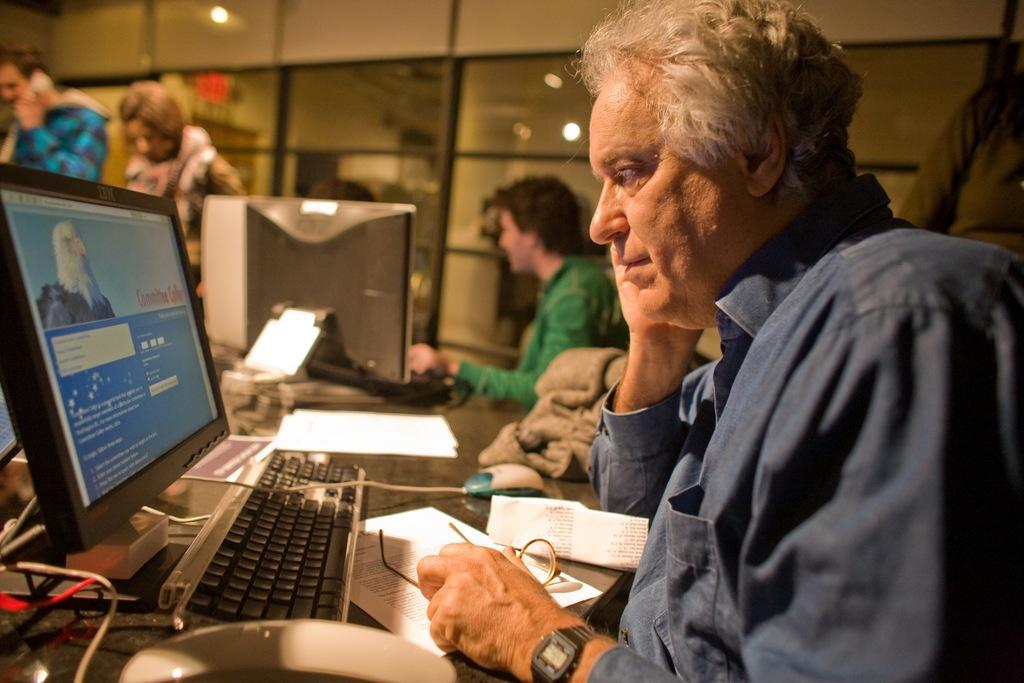Computer-keyboard: (155, 448, 370, 630)
